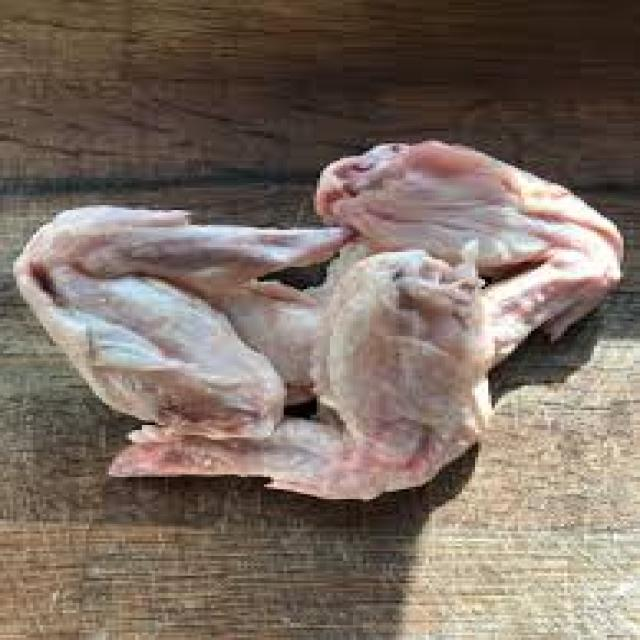wing: (105, 254, 500, 514), (10, 191, 337, 445), (317, 136, 622, 354)
